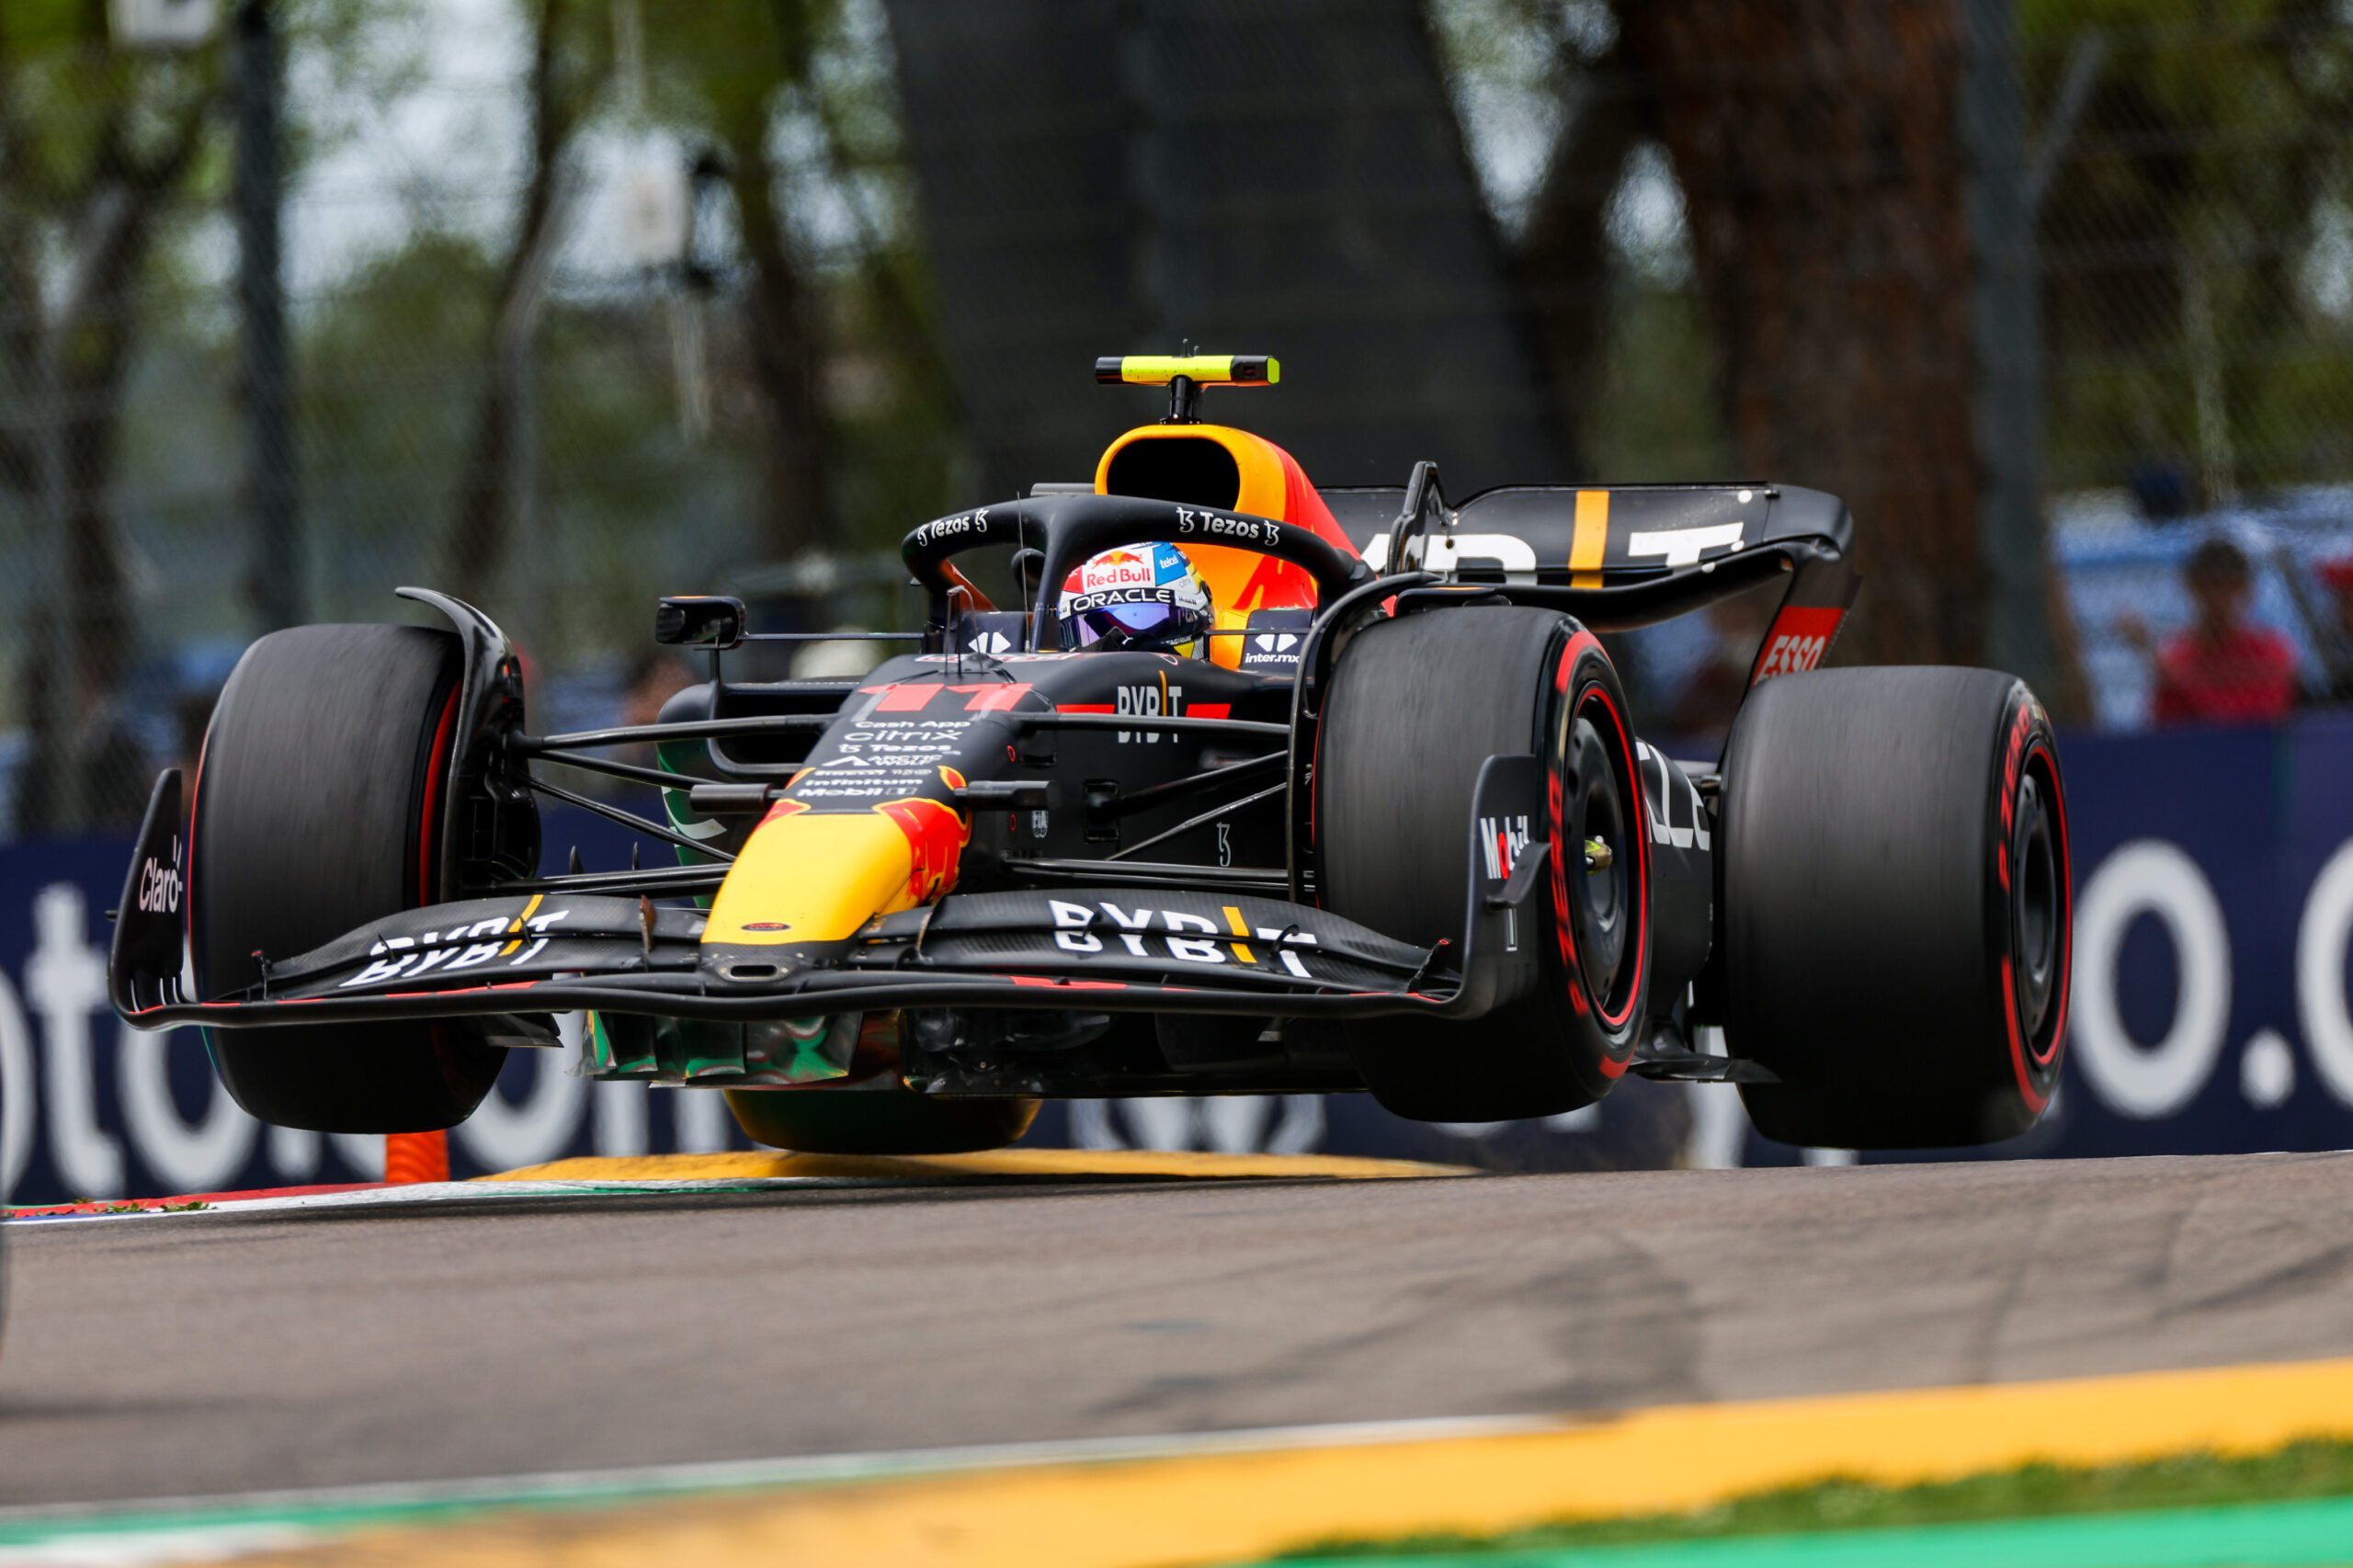Formule 1: (114, 434, 2077, 1129)
